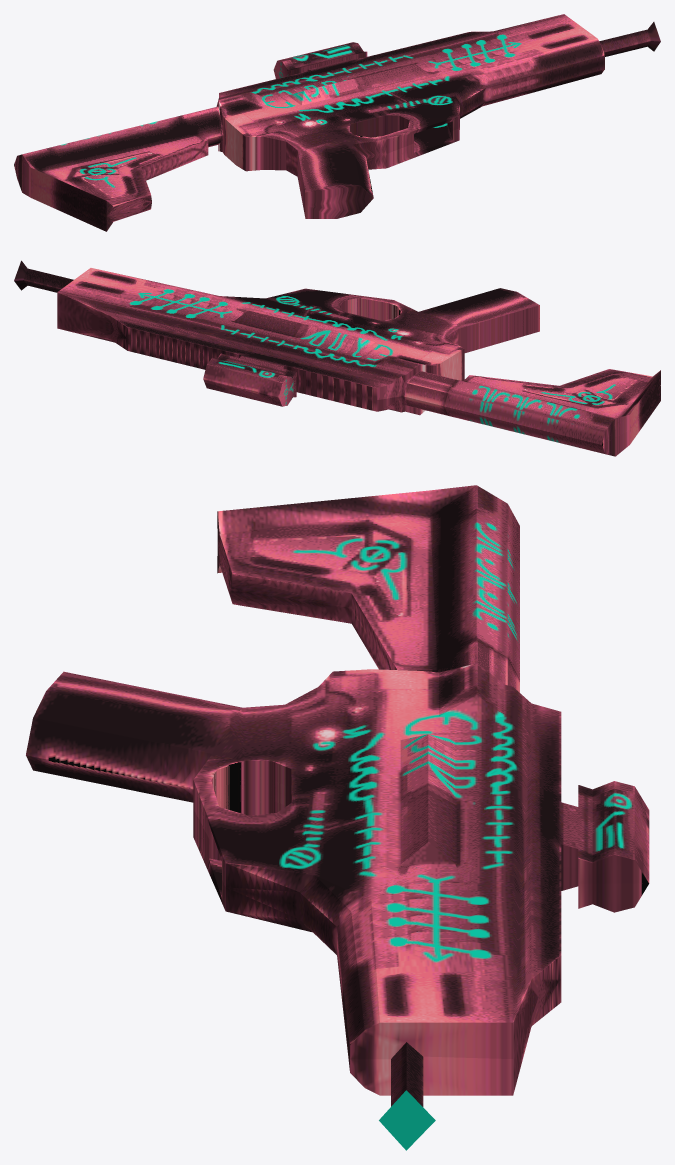
Rendered from degubby.glb.
3 views of the same model, one above another, from view 1: azimuth 30°, elevation 25°; view 2: azimuth 150°, elevation 25°; view 3: azimuth 270°, elevation 25° (orthographic). The views are drawn at different scales.
Parts seen in each view (by area): view 1: gun parent; view 2: gun parent; view 3: gun parent.
Boxes of the visible parts, <box> form: gun parent: <box>14,14,660,231</box>; gun parent: <box>14,260,660,456</box>; gun parent: <box>26,485,649,1150</box>.
Bounding box in the file's own units: 1.05 × 0.084 × 0.4622.
Materials: 1 (1 with a texture image).
